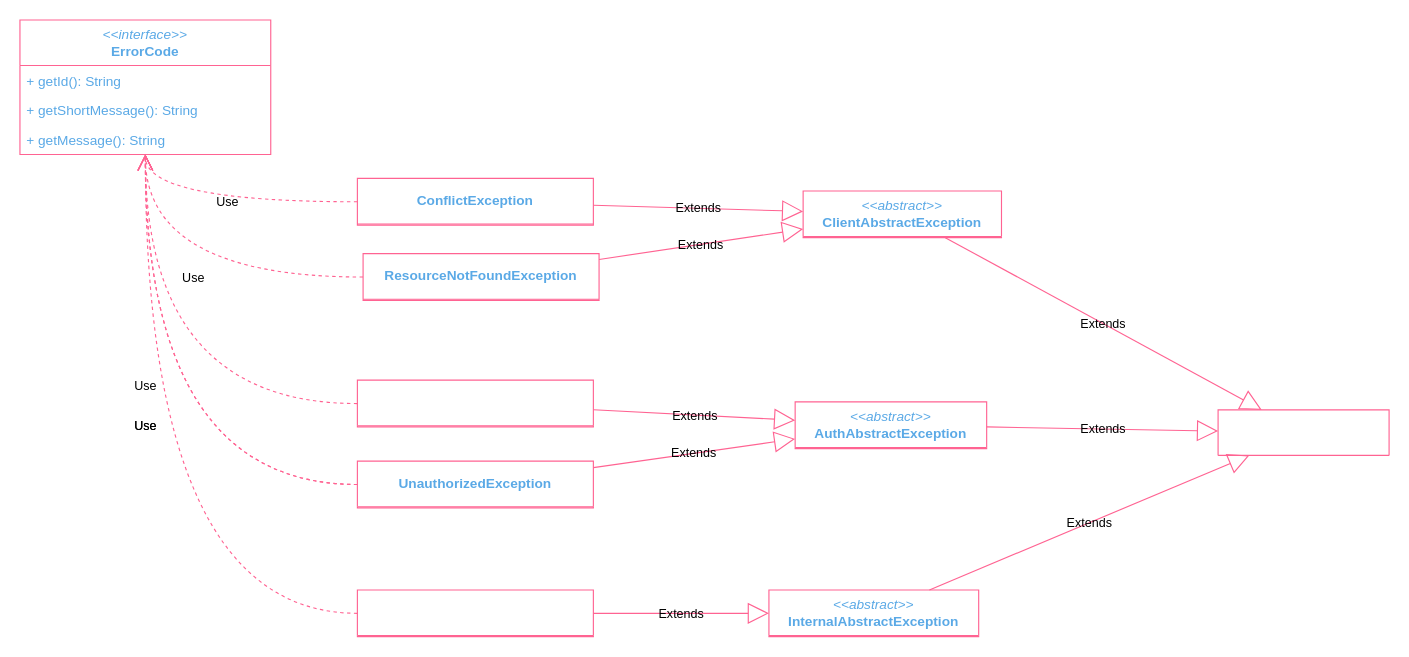
The diagram is 1409 pixels wide and 657 high, and some of its shapes have lost their labels. Here are the shapes that lost their labels. From the top down, the centre of each, then its label:
the point at 474,403: ForbiddenException
the point at 1303,432: RuntimeException
the point at 474,613: InternalServerException
